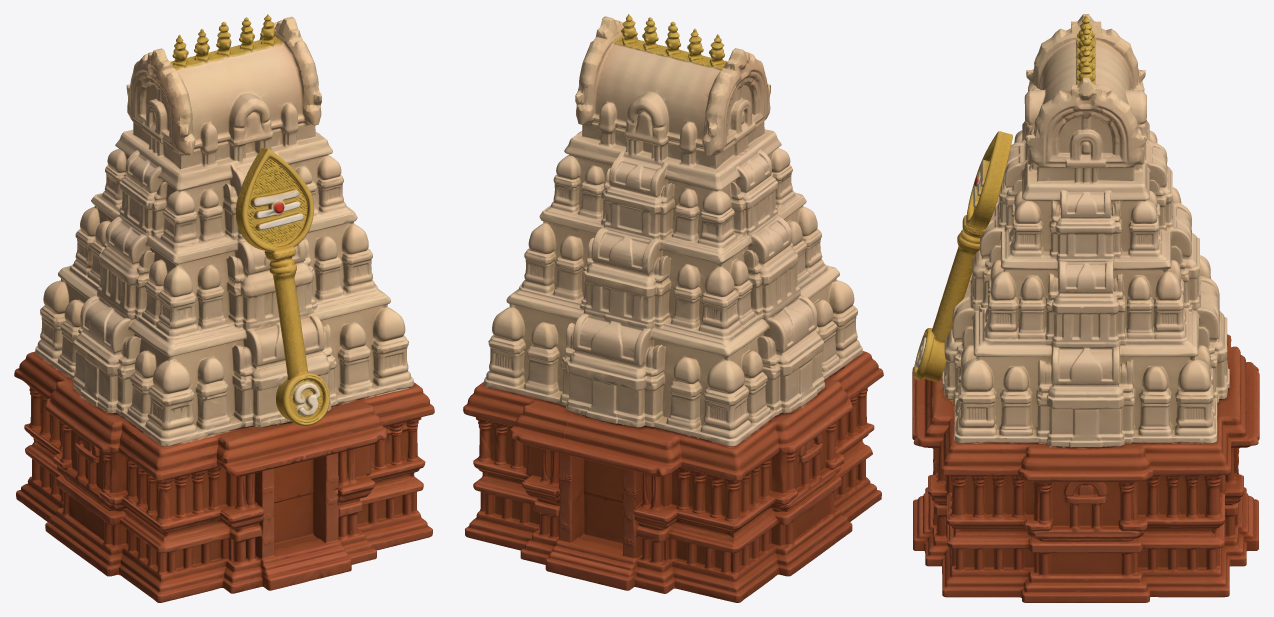
The model's file is gopuram-layered.glb.
3 views of the same model, side by side, from view 1: azimuth 30°, elevation 25°; view 2: azimuth 150°, elevation 25°; view 3: azimuth 270°, elevation 25° (orthographic).
Parts seen in each view (by area): view 1: meshes[0].1473; view 2: meshes[0].1473; view 3: meshes[0].1473.
Part boxes in pixels (left/top/right/bottom): meshes[0].1473: left=14, top=14, right=434, bottom=602; meshes[0].1473: left=463, top=14, right=883, bottom=602; meshes[0].1473: left=912, top=14, right=1259, bottom=602.
Size of the model in its own units: 0.6231 by 0.9811 by 0.6224.
1 material, 1 textured.
